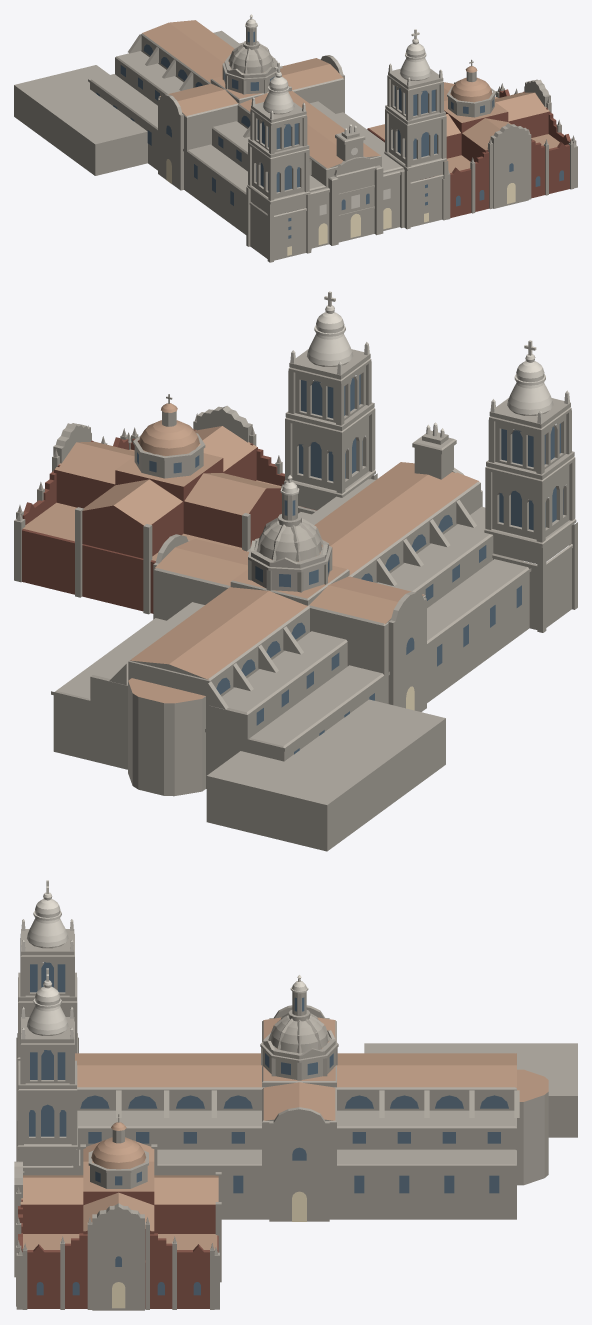
File: mexico-city-metropolitan-cathedral.glb
3 views of the same model, one above another, from view 1: azimuth 30°, elevation 25°; view 2: azimuth 150°, elevation 25°; view 3: azimuth 270°, elevation 25° (orthographic). The views are drawn at different scales.
Parts seen in each view (by area): view 1: Metropolitan Cathedral of Mexico City; view 2: Metropolitan Cathedral of Mexico City; view 3: Metropolitan Cathedral of Mexico City.
Boxes of the visible parts, x1,y1,x2,y2 form: Metropolitan Cathedral of Mexico City: (14, 14, 577, 262); Metropolitan Cathedral of Mexico City: (14, 291, 577, 851); Metropolitan Cathedral of Mexico City: (14, 880, 577, 1310).
Size of the model in its own units: 128 by 64.5 by 135.
